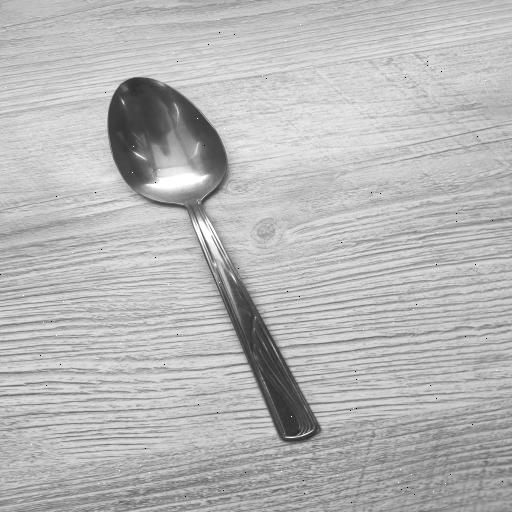spoon: (100, 73, 326, 444)
